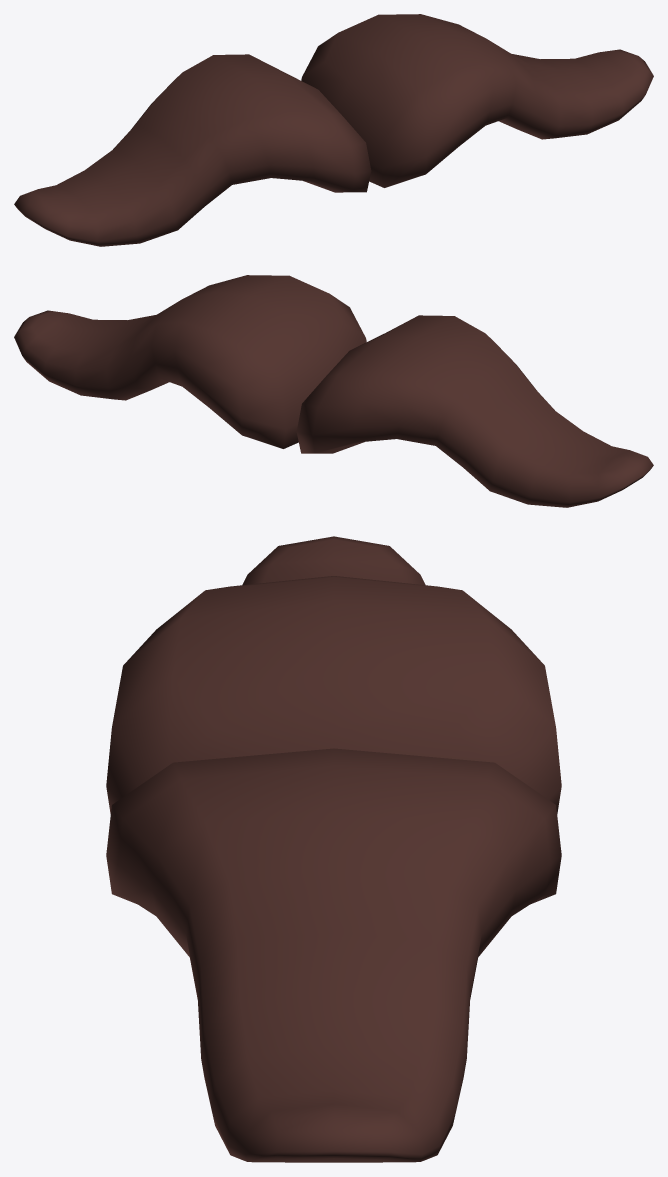
File: mustache.fbx
3 renders of one model, top to bottom at view 1: azimuth 30°, elevation 25°; view 2: azimuth 150°, elevation 25°; view 3: azimuth 270°, elevation 25°, orthographic. The views are drawn at different scales.
Visible parts, largest first — view 1: pCube20; view 2: pCube20; view 3: pCube20.
Boxes of the visible parts, left/top/right/bottom form: pCube20: left=14, top=14, right=653, bottom=246; pCube20: left=14, top=275, right=653, bottom=507; pCube20: left=106, top=536, right=561, bottom=1162.
Size of the model in its own units: 6.93 by 1.26 by 2.2.
